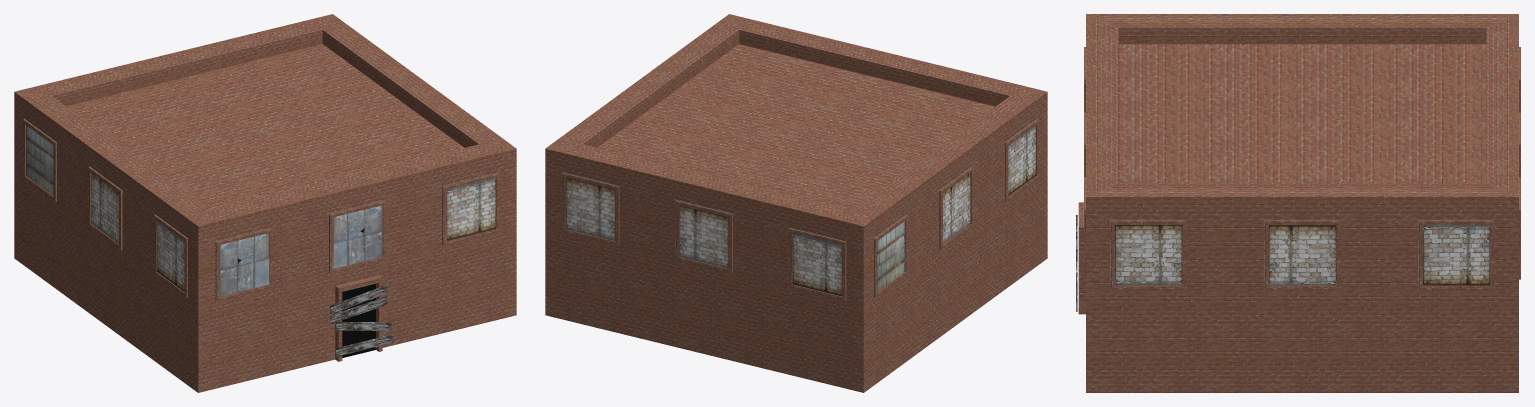
File: building_04.fbx
3 views of the same model, side by side, from view 1: azimuth 30°, elevation 25°; view 2: azimuth 150°, elevation 25°; view 3: azimuth 270°, elevation 25° (orthographic). The views are drawn at different scales.
Visible parts, largest first — view 1: building_04; view 2: building_04; view 3: building_04.
Boxes of the visible parts, x1,y1,x2,y2 form: building_04: (14,14,516,392); building_04: (545,14,1047,392); building_04: (1076,14,1520,392).
Size of the model in its own units: 11.34 by 5.62 by 11.55.
